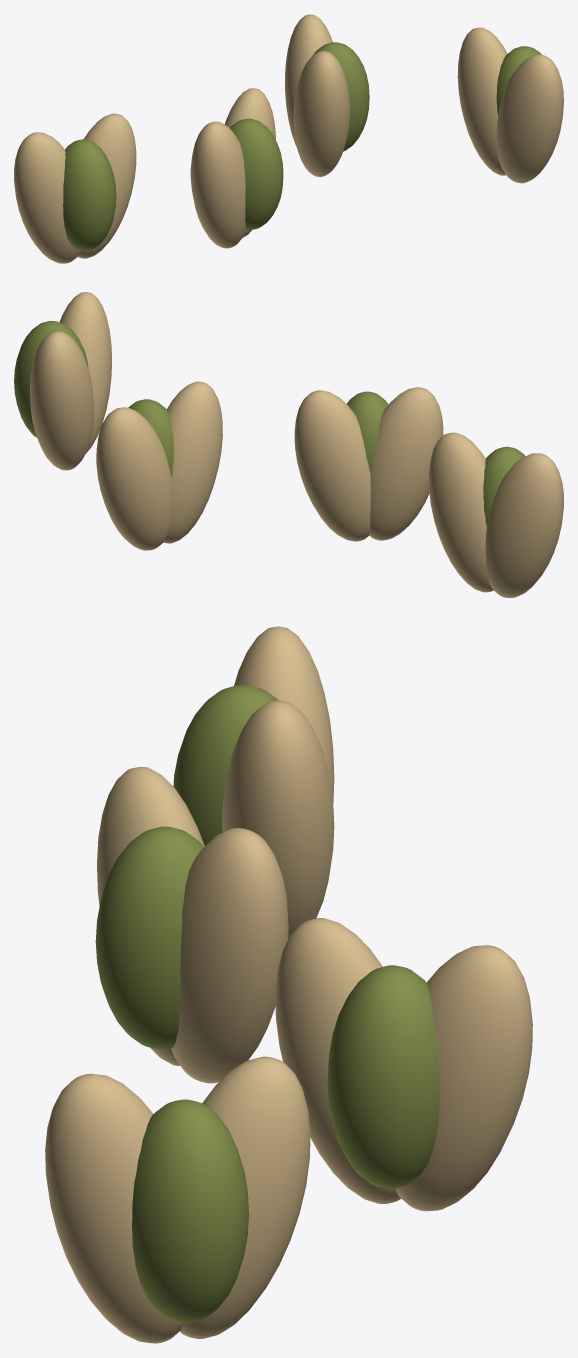
Rendered from props_p7__p7_pistachio.glb.
The picture shows the model from 3 angles, top to bottom: view 1: azimuth 30°, elevation 25°; view 2: azimuth 150°, elevation 25°; view 3: azimuth 270°, elevation 25°; orthographic projection. The views are drawn at different scales.
Visible parts, largest first — view 1: reference_static_surfaces (×2); view 2: reference_static_surfaces (×2); view 3: reference_static_surfaces (×2).
Part boxes in pixels (box(x1,y1,x2,y2)): reference_static_surfaces (×2): box(14, 14, 563, 263); reference_static_surfaces (×2): box(14, 292, 563, 597); reference_static_surfaces (×2): box(45, 626, 532, 1343).
Bounding box in the file's own units: 0.0792 × 0.02 × 0.0325.
